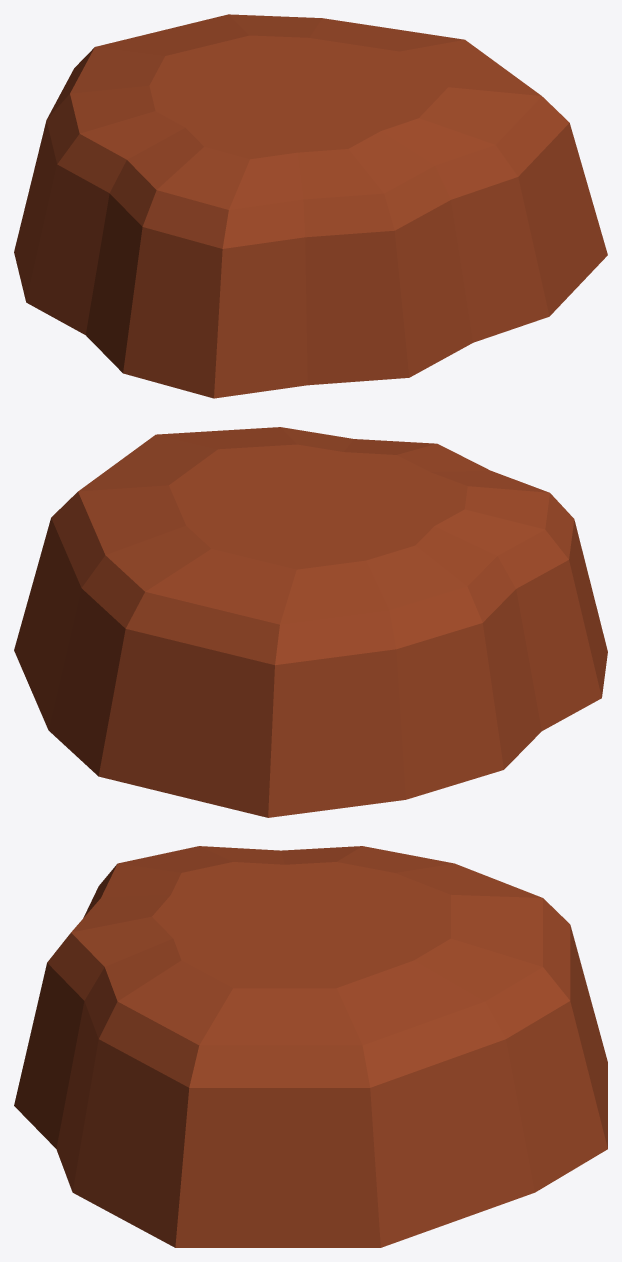
File: TerrainPart2.obj
3 views of the same model, one above another, from view 1: azimuth 30°, elevation 25°; view 2: azimuth 150°, elevation 25°; view 3: azimuth 270°, elevation 25° (orthographic). The views are drawn at different scales.
Visible parts, largest first — view 1: Meshpart1; view 2: Meshpart1; view 3: Meshpart1.
Part boxes in pixels (<box>): Meshpart1: <box>14,14,607,398</box>; Meshpart1: <box>14,427,607,817</box>; Meshpart1: <box>14,846,607,1247</box>.
Size of the model in its own units: 574 by 204 by 574.
